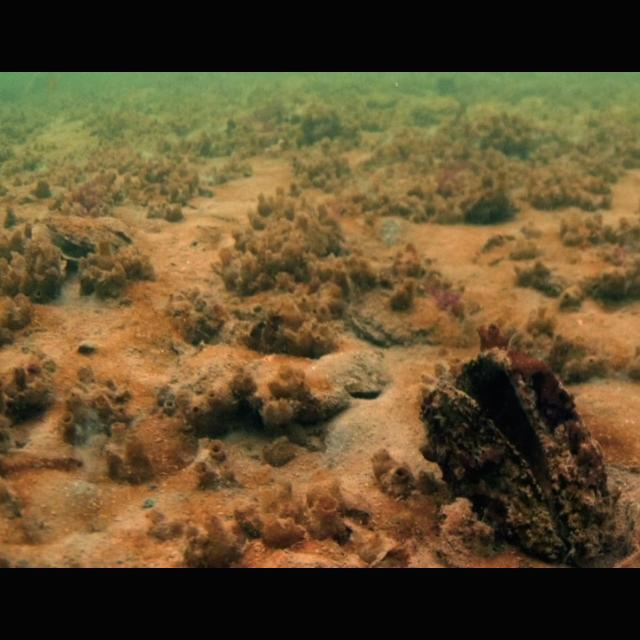Oyster-Open: (420, 344, 622, 568), (28, 212, 118, 266)
